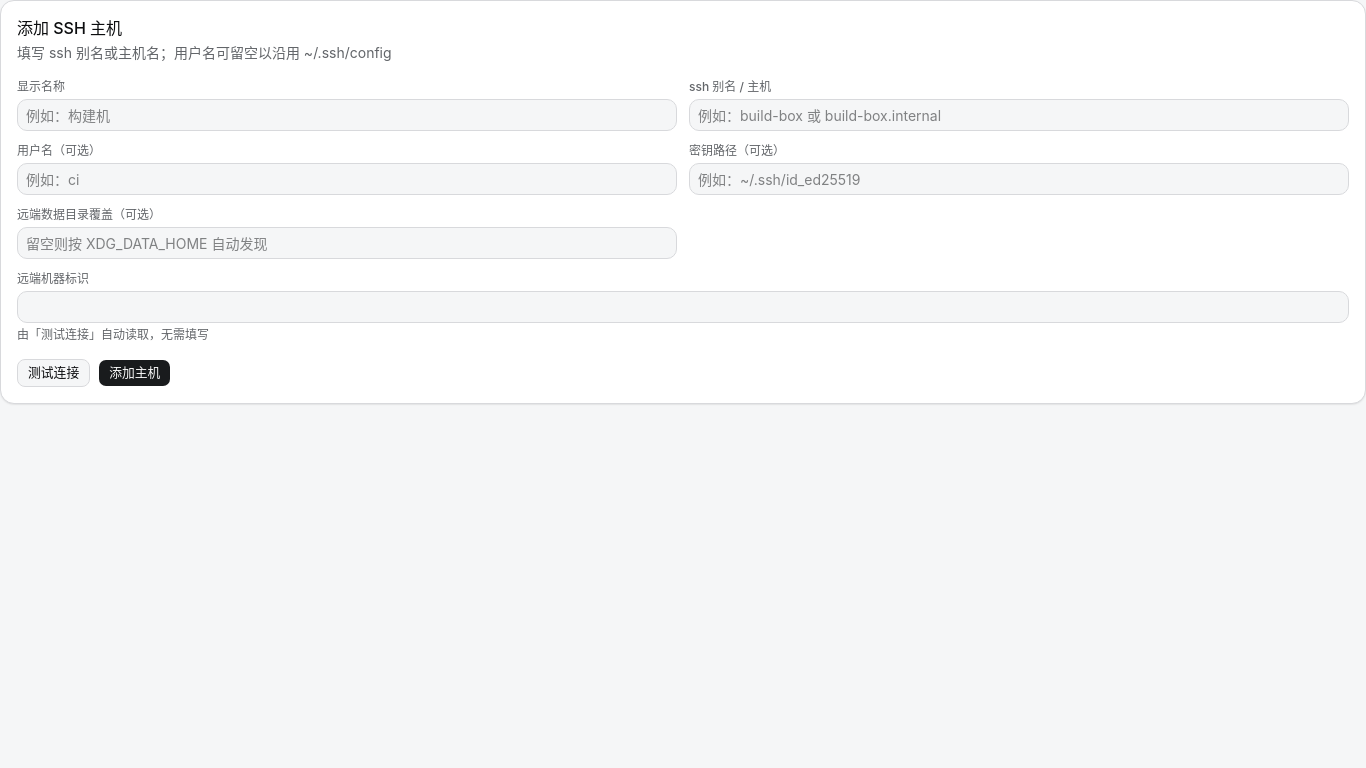
Test: AddSshHostForm SSH probe › shows bounded progress while the request remains pending
The image size is (1366, 768).
Type "build-box" into the field with test id "add-host-target".
click(1019, 115); type("build-box")  # box [689, 99, 1349, 131]
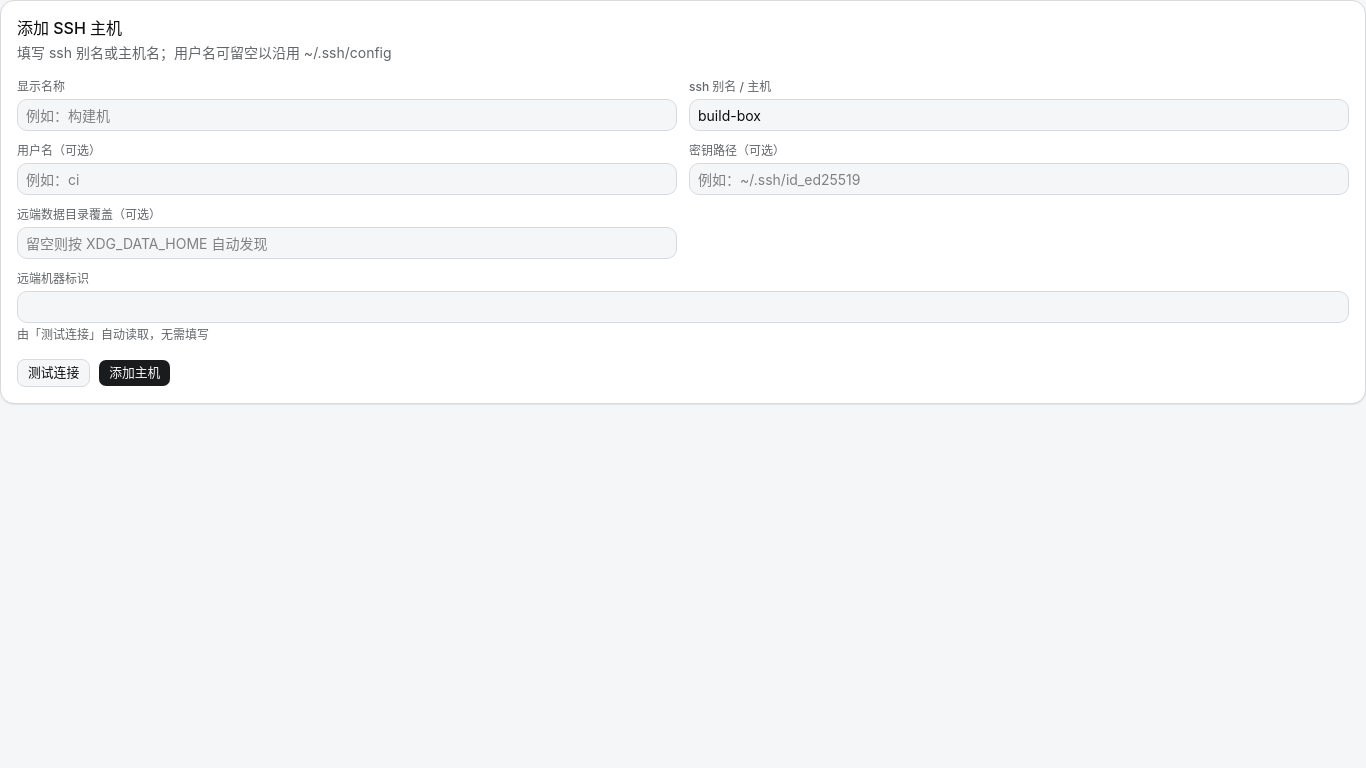
Click the button with test id "add-host-test".
click(54, 373)  # box [17, 359, 90, 387]
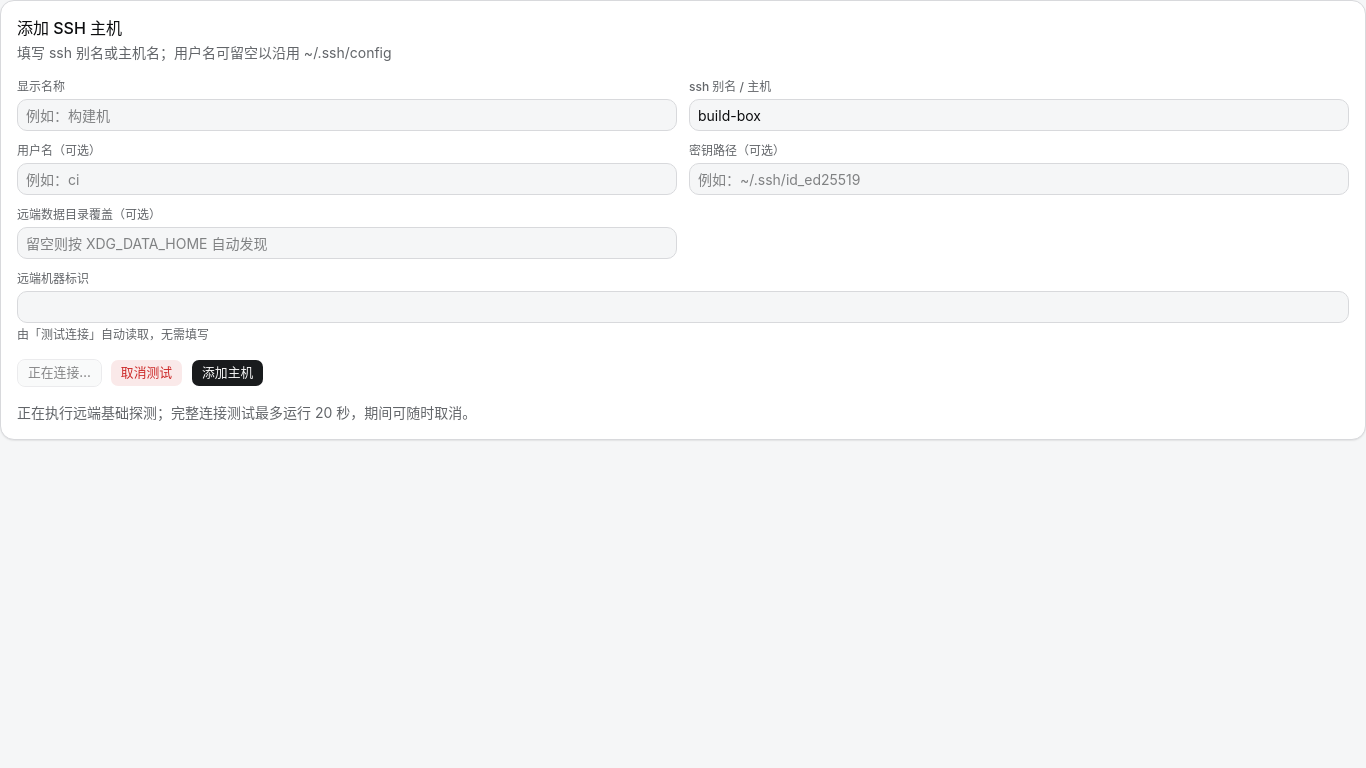
Expected: the message with test id "probe-pending" reads "正在执行远端基础探测；完整连接测试最多运行 20 秒，期间可随时取消。", [17, 404, 476, 421]
Expected: the button with test id "add-host-test-cancel" is enabled, [110, 359, 183, 387]
Type "界面仍可交互" into the field with test id "add-host-display-name".
click(347, 115); type("界面仍可交互")  # box [17, 99, 677, 131]
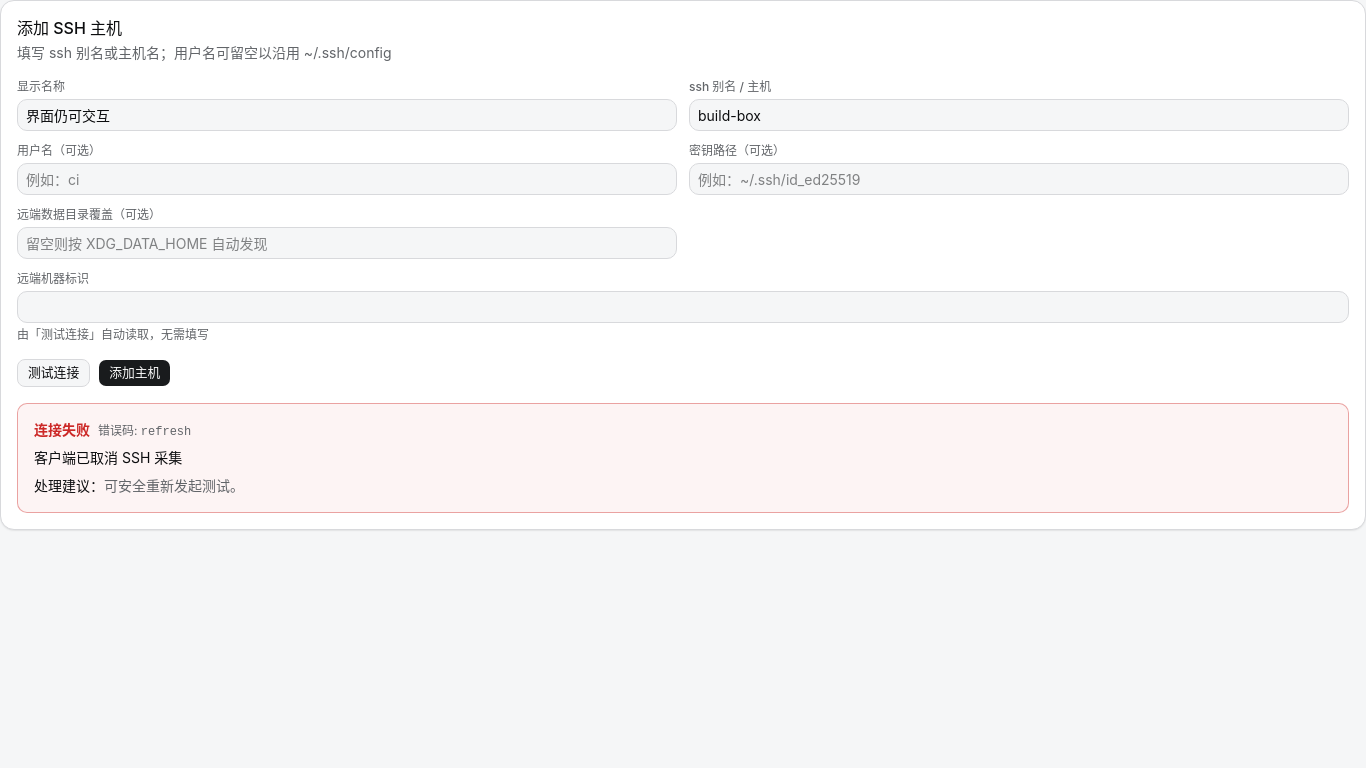
Expected: the text "可安全重新发起测试。" is shown, [104, 477, 244, 494]
